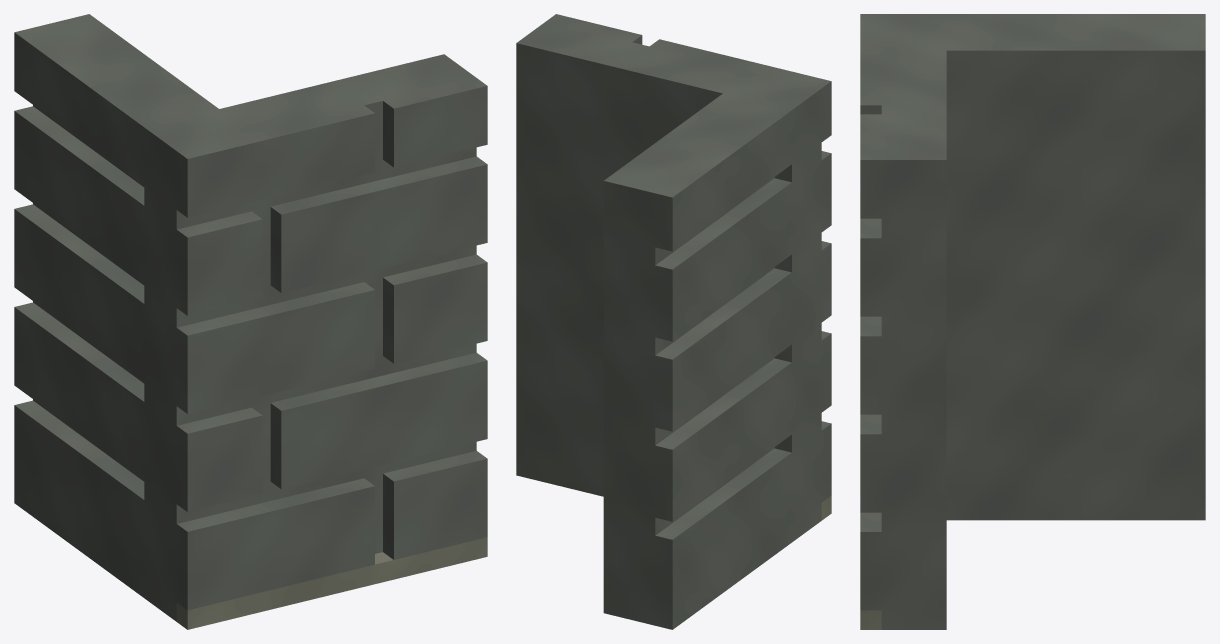
File: CORNER_INNER.glb
3 renders of one model, left to right at view 1: azimuth 30°, elevation 25°; view 2: azimuth 150°, elevation 25°; view 3: azimuth 270°, elevation 25°, orthographic. The views are drawn at different scales.
Parts seen in each view (by area): view 1: CORNER_INNER; view 2: CORNER_INNER; view 3: CORNER_INNER.
Boxes of the visible parts, left/top/right/bottom form: CORNER_INNER: left=14, top=14, right=487, bottom=629; CORNER_INNER: left=516, top=14, right=831, bottom=629; CORNER_INNER: left=860, top=14, right=1205, bottom=629.
Bounding box in the file's own units: 2 × 3 × 2.
Materials: 2 (2 with a texture image).
